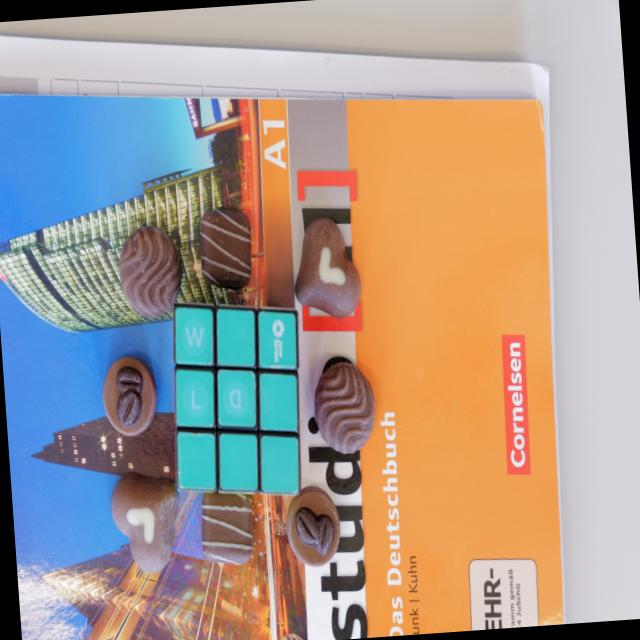Arabia: (100, 354, 161, 438), (284, 485, 342, 568)
Noir_authentique: (310, 358, 378, 455), (117, 222, 185, 316)
Passion_au_lait: (108, 470, 184, 576), (290, 212, 364, 320)
Stracciatella: (198, 488, 256, 568), (198, 209, 254, 290)
